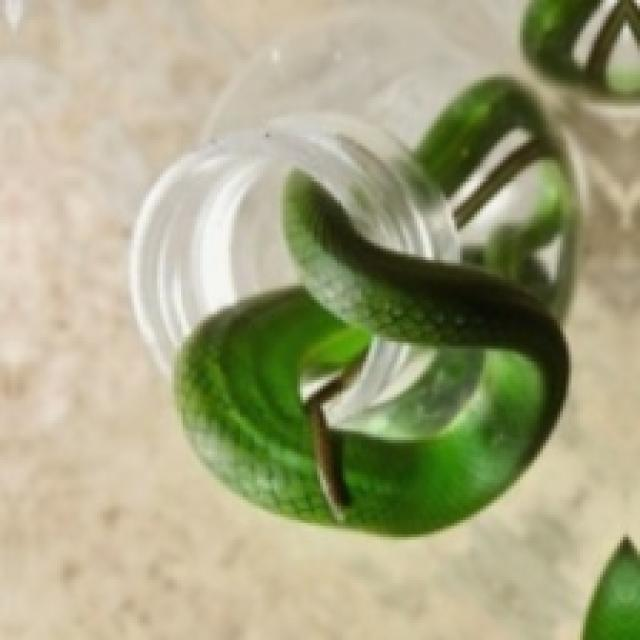red-tailed green ratsnake: (169, 0, 637, 531)
